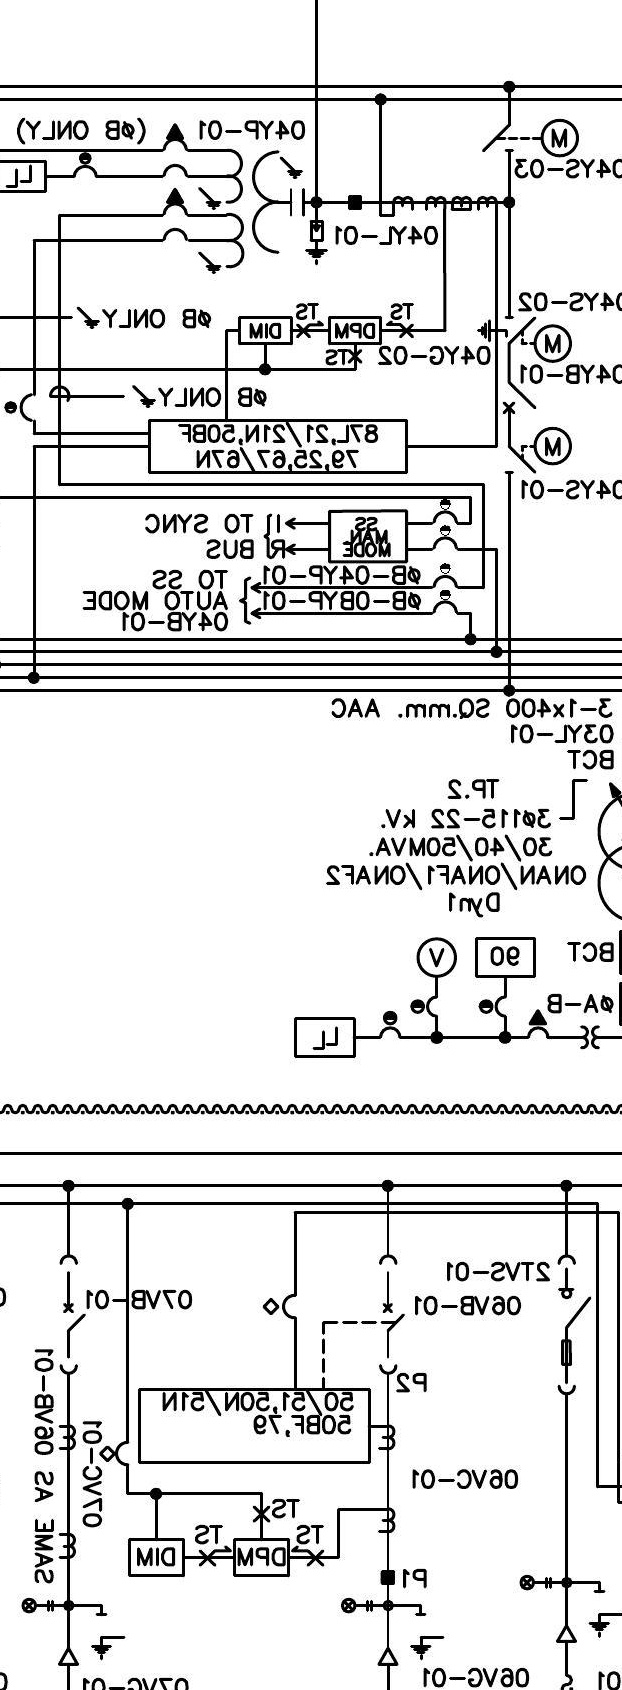115_1way_ds_w_motor: (481, 118, 580, 158), (504, 426, 573, 474)
115_3ways_ds_w_motor: (476, 315, 573, 364)
115_breaker: (502, 381, 537, 414)
115_cvt_1p: (160, 123, 306, 275)
115_la: (304, 220, 329, 266)
22_breaker: (378, 1254, 406, 1375), (59, 1254, 87, 1375)
22_ds: (557, 1254, 592, 1396)
22_gs: (410, 1613, 446, 1661), (90, 1613, 126, 1661)
22_ll: (519, 1574, 552, 1591), (341, 1597, 374, 1614), (21, 1597, 54, 1614)
DIM: (127, 1537, 185, 1577), (238, 316, 293, 346)
DPM: (233, 1537, 290, 1577), (328, 316, 382, 345)
LL: (294, 1017, 356, 1059)
ss_man_mode: (328, 509, 408, 564)
terminator_single: (57, 1645, 80, 1667), (555, 1622, 578, 1643), (377, 1645, 399, 1666)
v_m: (416, 937, 458, 979)
